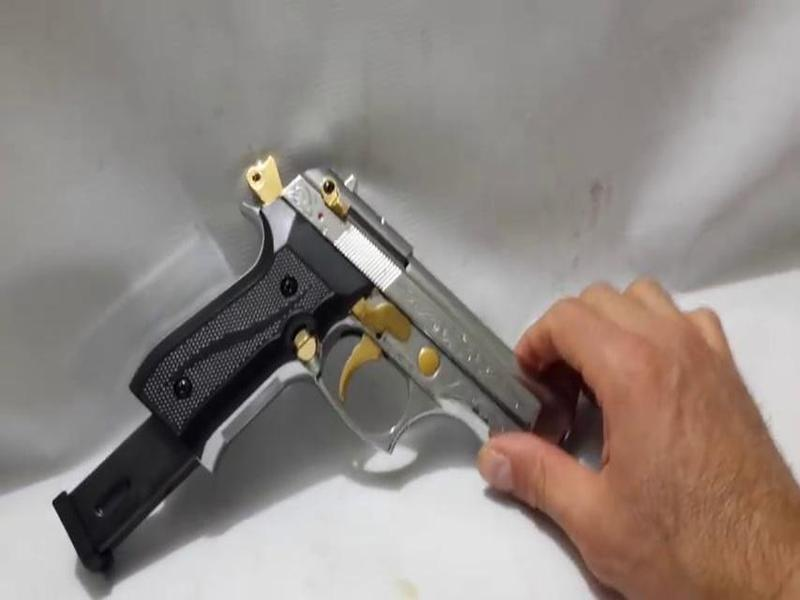Pistola: (128, 143, 567, 496)
